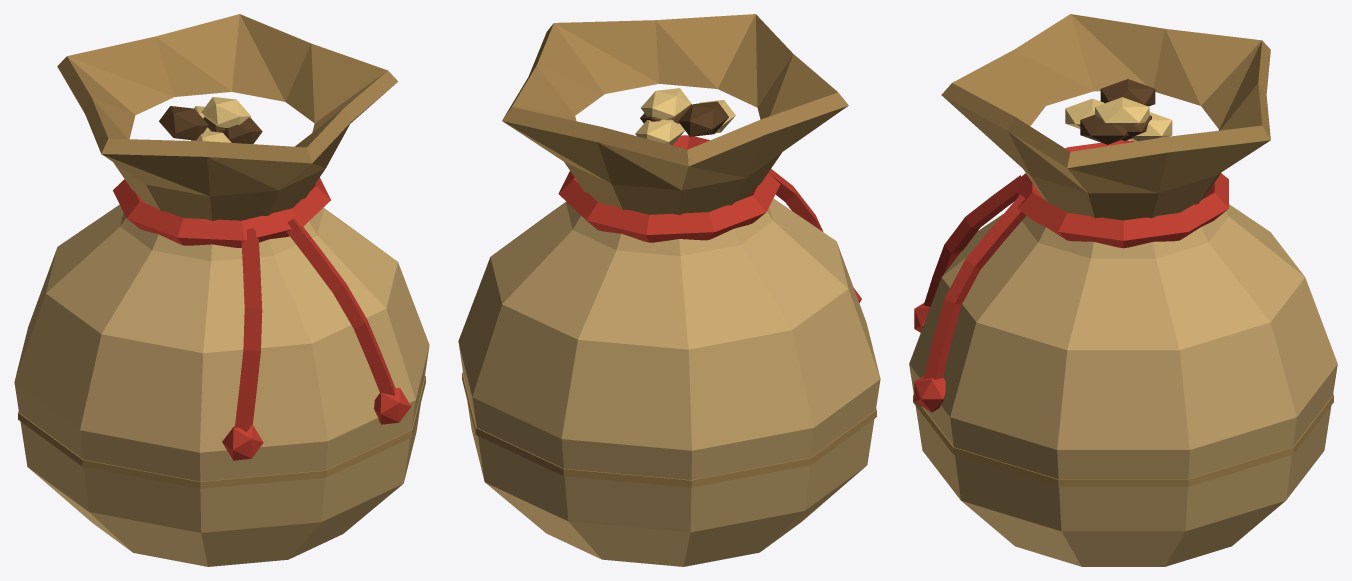
The model's file is seed-pouch.glb.
3 renders of one model, left to right at view 1: azimuth 30°, elevation 25°; view 2: azimuth 150°, elevation 25°; view 3: azimuth 270°, elevation 25°, orthographic.
Visible parts, largest first — view 1: seed-pouch; view 2: seed-pouch; view 3: seed-pouch.
Part boxes in pixels (x1,y1,x2,y2): seed-pouch: (14,14,429,566); seed-pouch: (458,14,880,566); seed-pouch: (909,14,1337,566).
Bounding box in the file's own units: 0.213 × 0.252 × 0.224.
